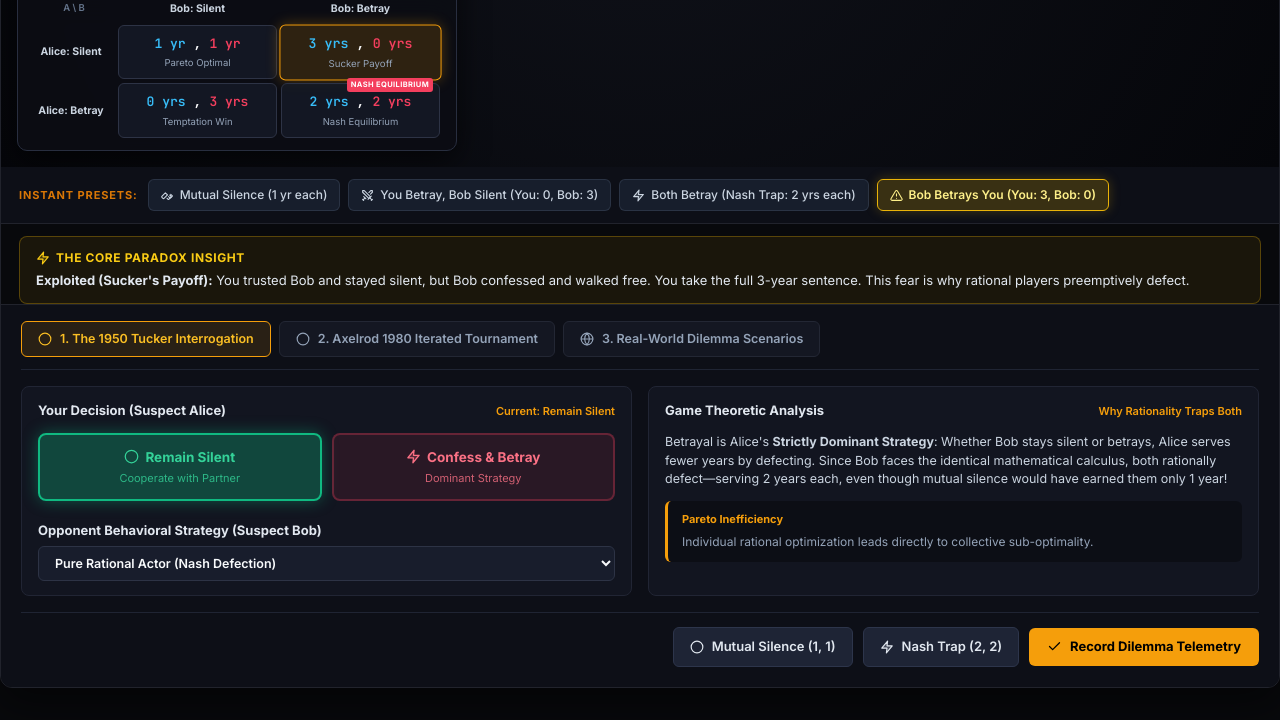
PrisonersDilemma3DLab › toggles decision levers in Tab 1 (Single Interrogation)
(page scrolled)
Click the button with aria-label "Confess and Betray" at {"x": 473, "y": 467}, box [332,433,615,501]
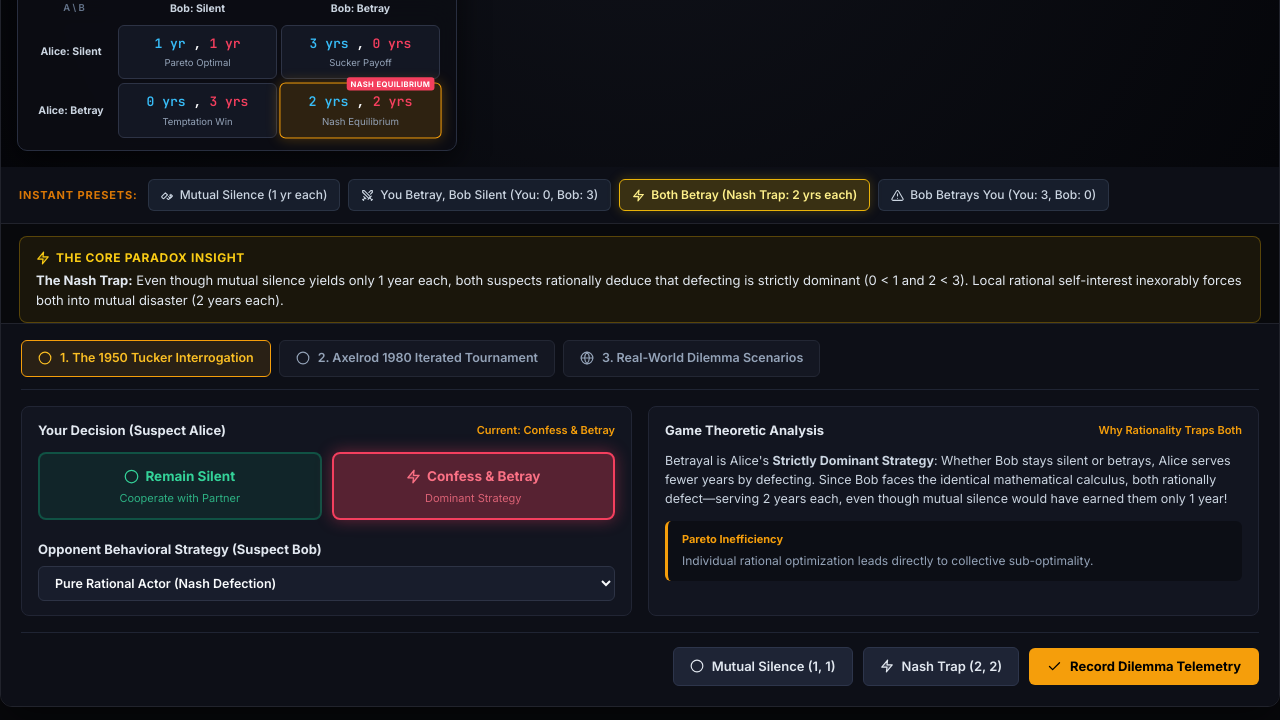
Click the button "Remain Silent Cooperate with Partner" at {"x": 180, "y": 486}, box [38,452,322,520]
(page scrolled)
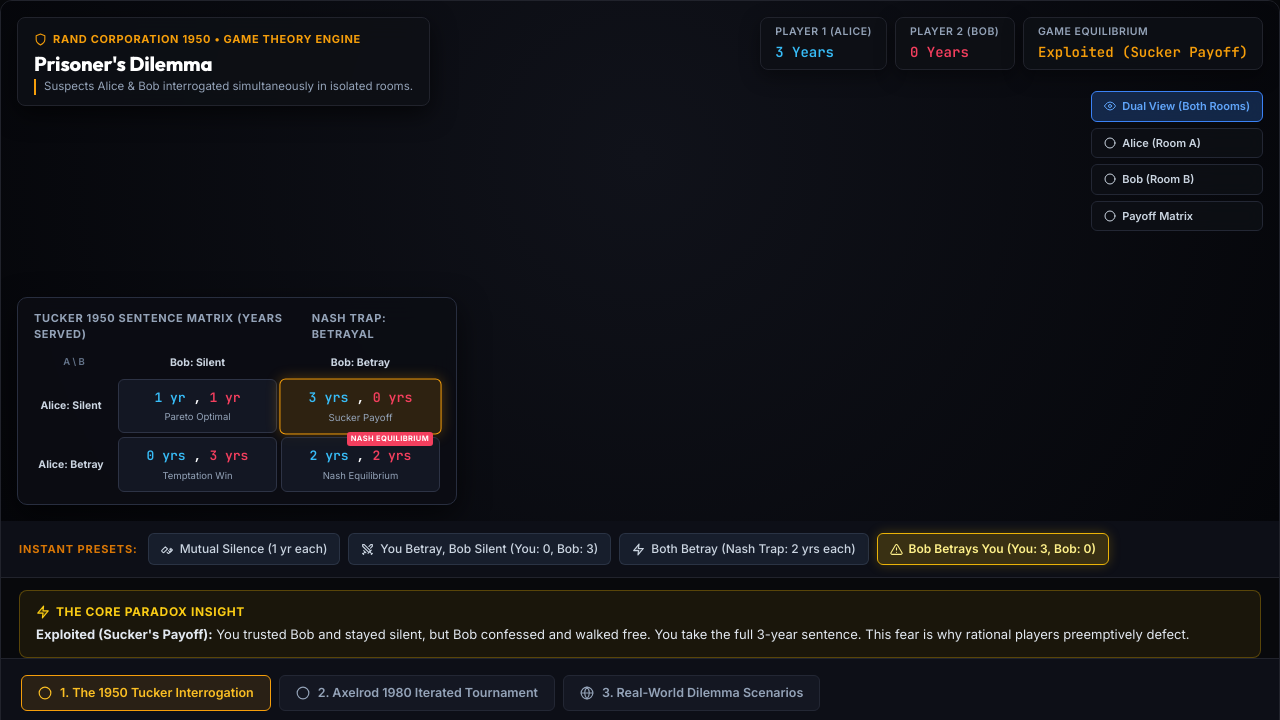
Expected: the text "Exploited (Sucker Payoff)" is shown, [1038,42,1248,63]
